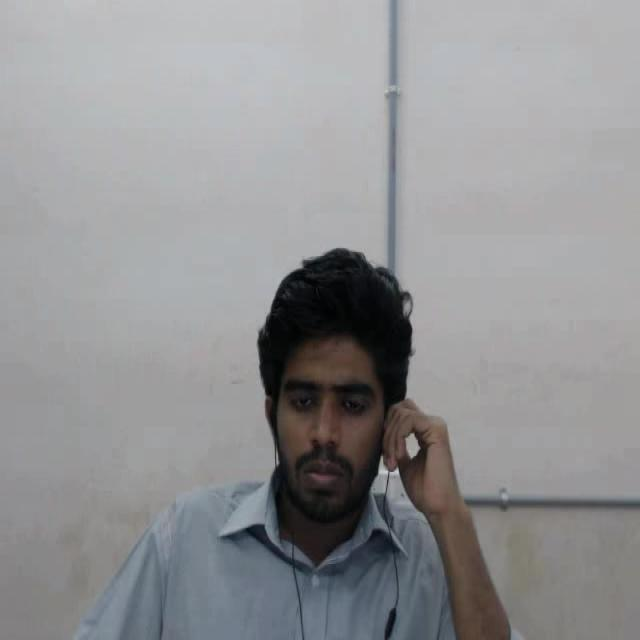Bored: (234, 236, 448, 566)
